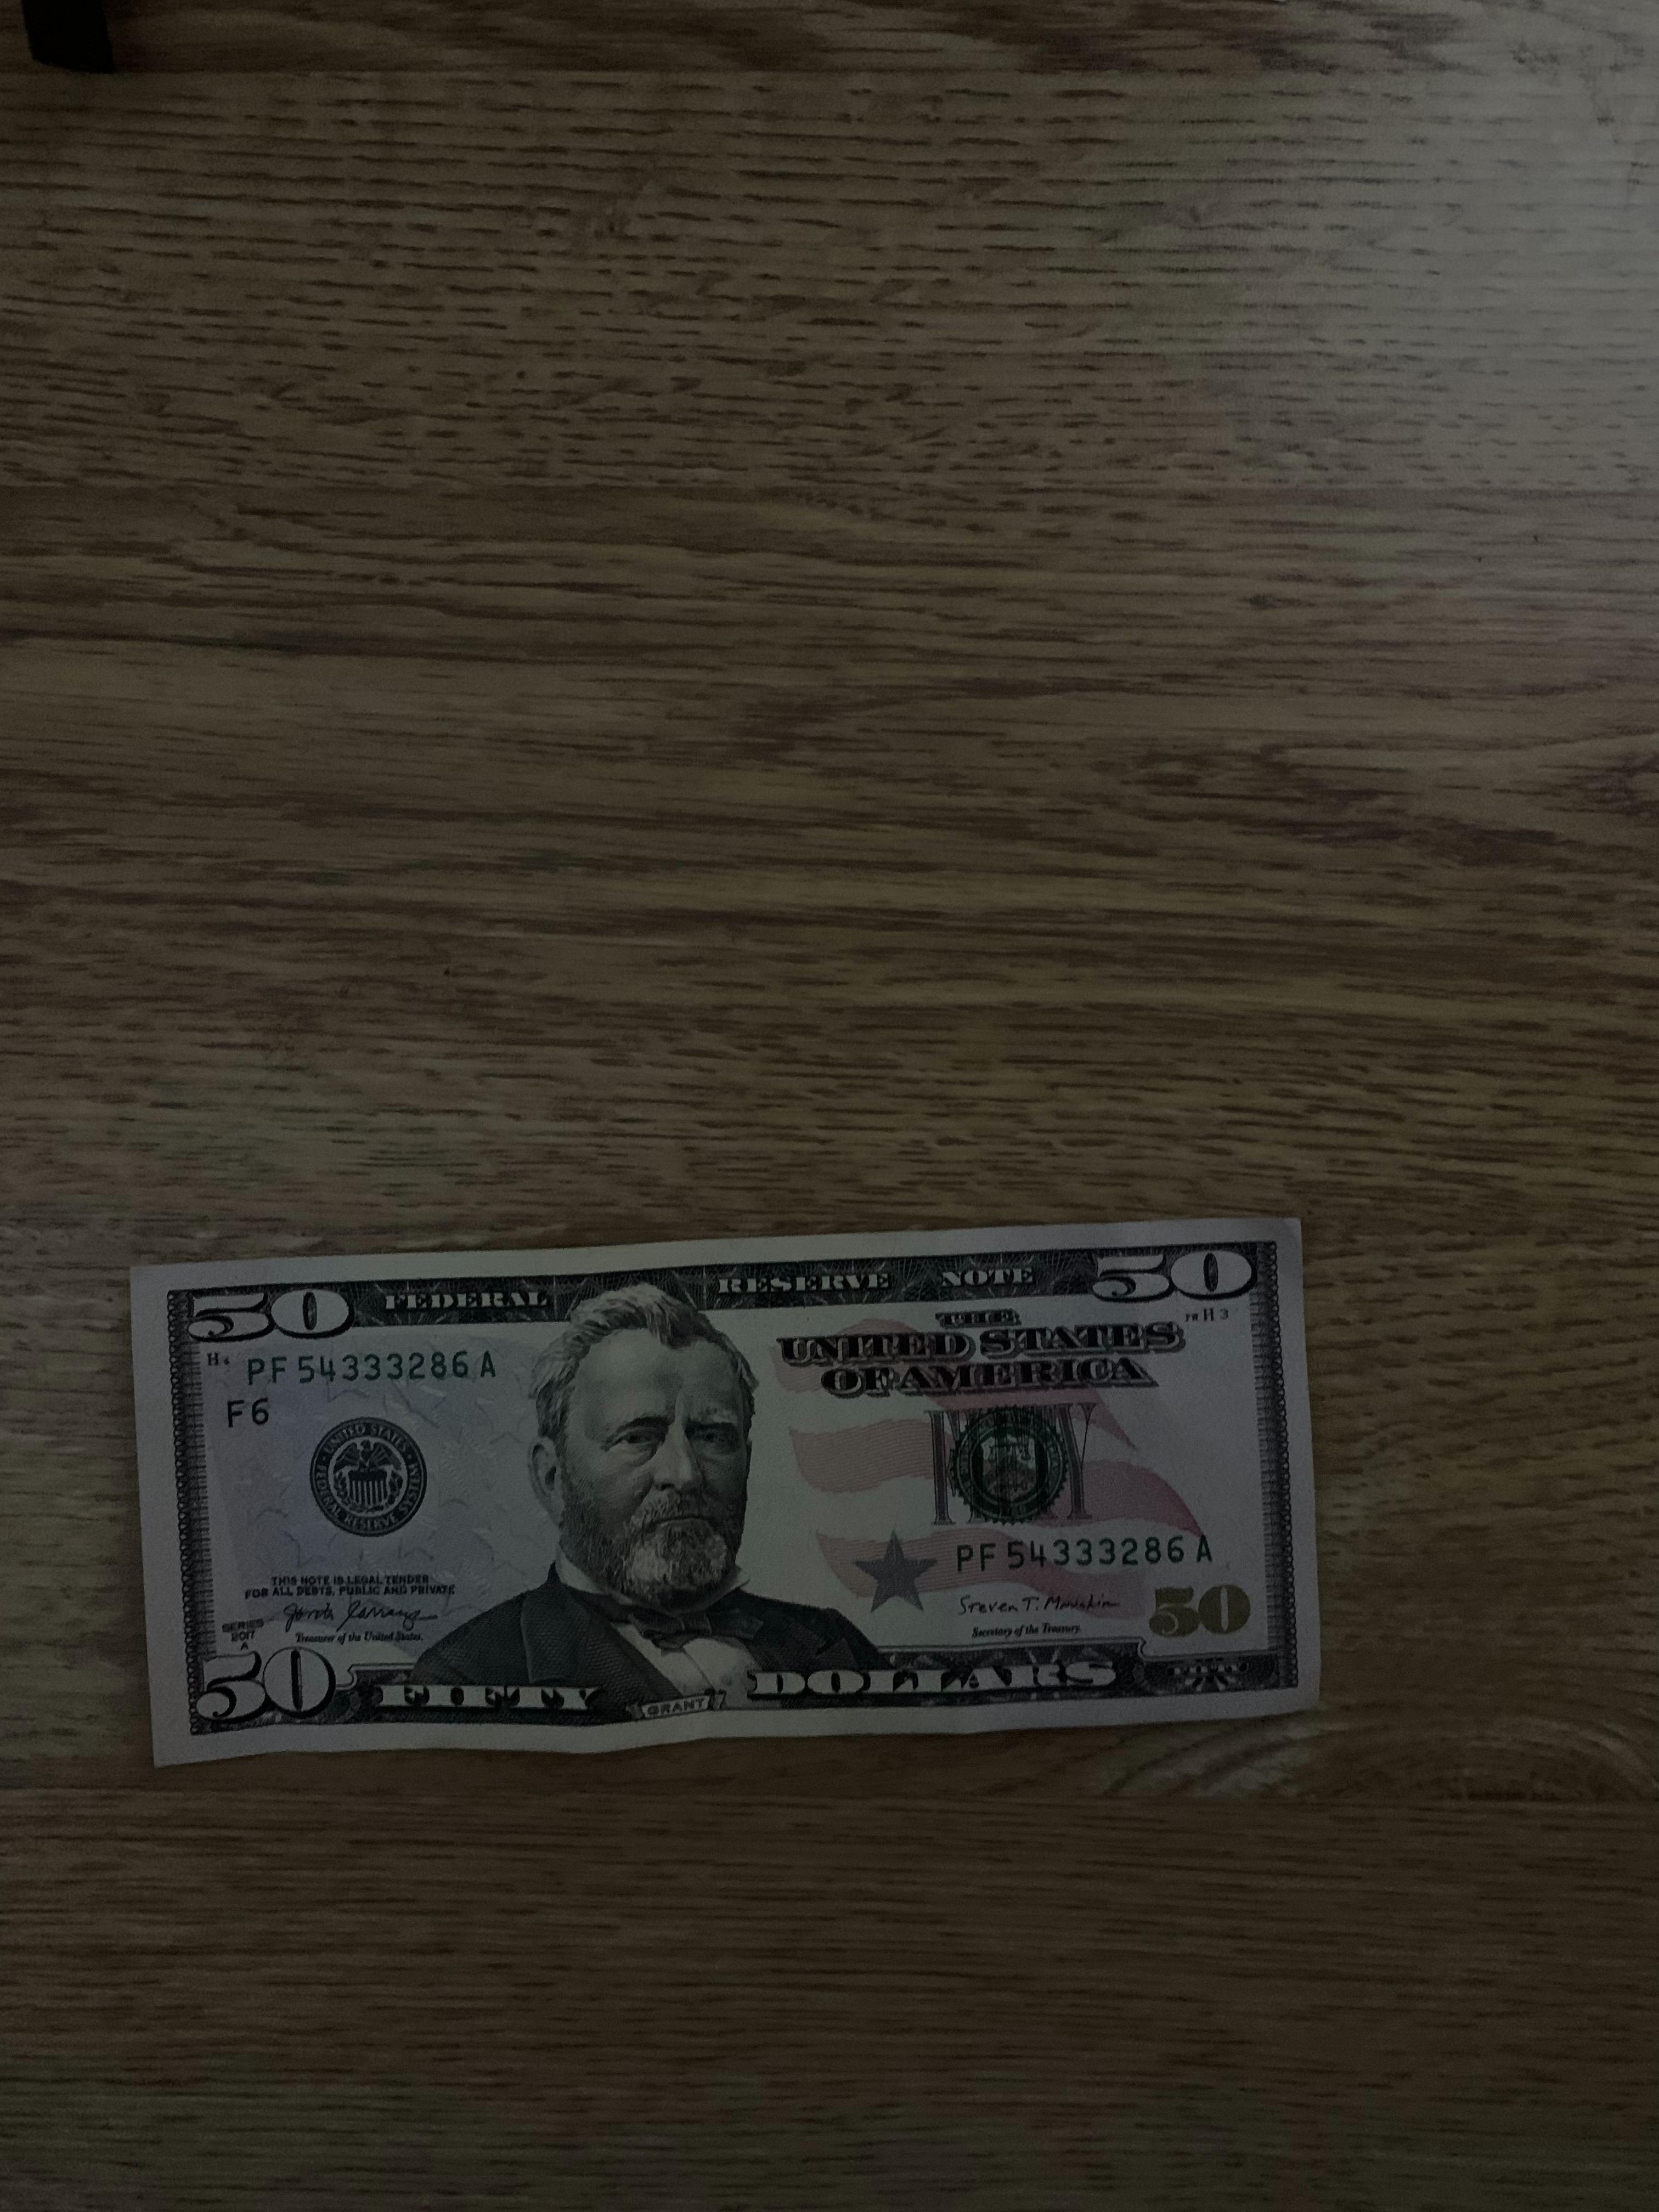FiftyBill: (113, 1235, 1333, 1766)
